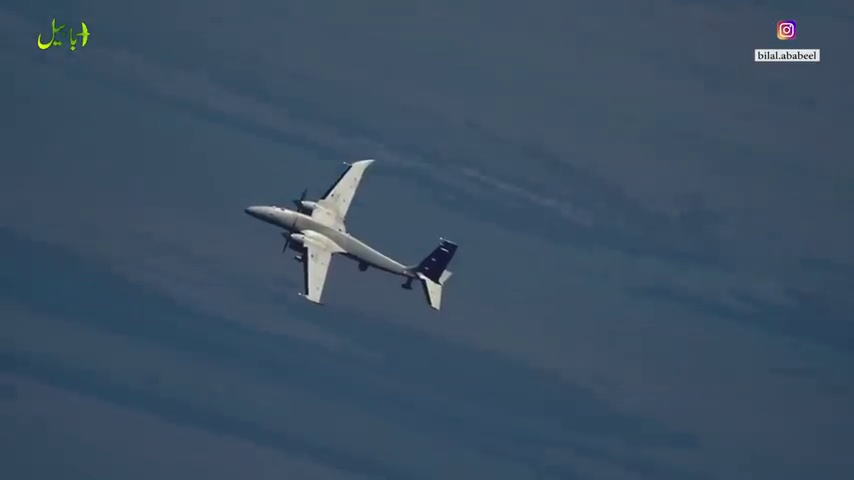military drone: (243, 159, 458, 310)
